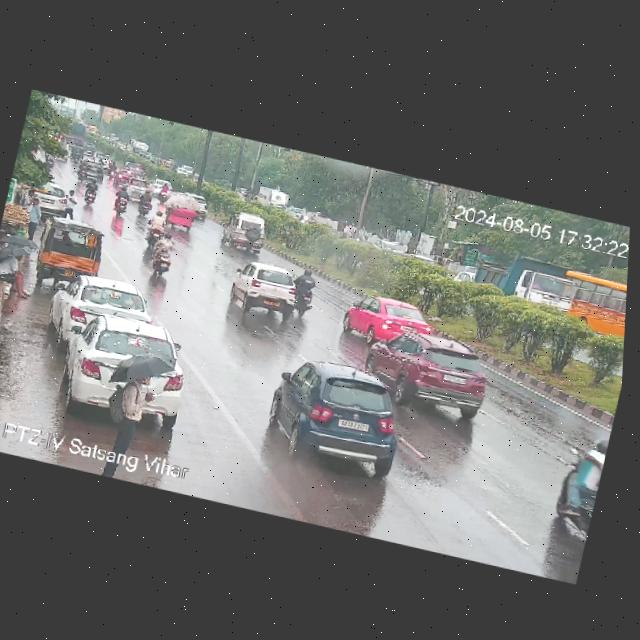bus: (507, 254, 628, 343)
car: (261, 348, 418, 483), (49, 305, 186, 428), (353, 320, 501, 422), (50, 270, 154, 353), (338, 287, 439, 353), (32, 212, 112, 284), (226, 256, 309, 323), (18, 178, 84, 220), (221, 207, 273, 255), (156, 190, 204, 233), (124, 174, 150, 196), (192, 194, 213, 221), (111, 166, 133, 189), (86, 158, 106, 182), (149, 175, 164, 196), (90, 151, 112, 165), (123, 159, 142, 172), (130, 167, 147, 180), (71, 145, 87, 158), (83, 141, 97, 152)
motorcycle: (539, 423, 607, 535), (282, 263, 326, 322), (148, 230, 178, 280), (131, 180, 161, 219), (109, 186, 135, 219), (145, 209, 167, 247), (81, 177, 100, 206), (76, 159, 90, 181), (157, 181, 169, 202), (106, 160, 117, 180), (72, 149, 82, 165)
person: (108, 367, 154, 457), (0, 247, 41, 303), (15, 192, 50, 239), (62, 185, 80, 218), (21, 189, 34, 207)
truck: (466, 240, 583, 315)
